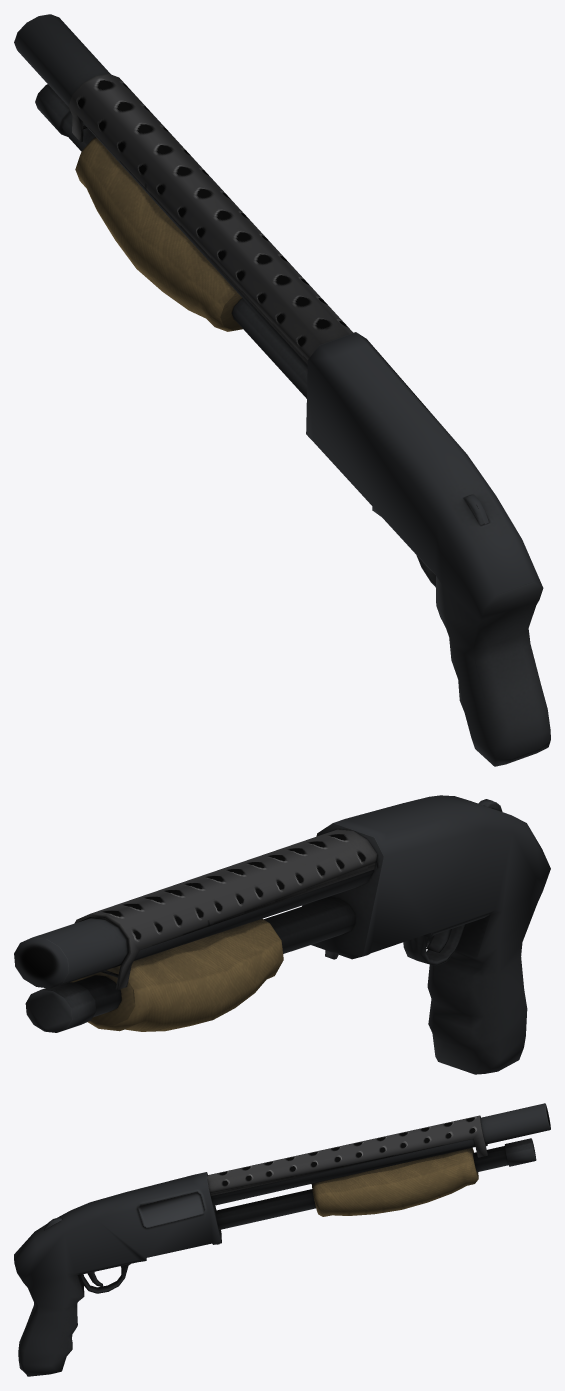
File: shotgun.dae
3 views of the same model, one above another, from view 1: azimuth 30°, elevation 25°; view 2: azimuth 150°, elevation 25°; view 3: azimuth 270°, elevation 25° (orthographic). The views are drawn at different scales.
Parts seen in each view (by area): view 1: mesh; view 2: mesh; view 3: mesh.
Part boxes in pixels (<box>): mesh: <box>14,14,550,766</box>; mesh: <box>14,795,550,1074</box>; mesh: <box>14,1103,550,1376</box>.
Size of the model in its own units: 3.8 by 28.63 by 15.04.
Materials: 1 (1 with a texture image).
